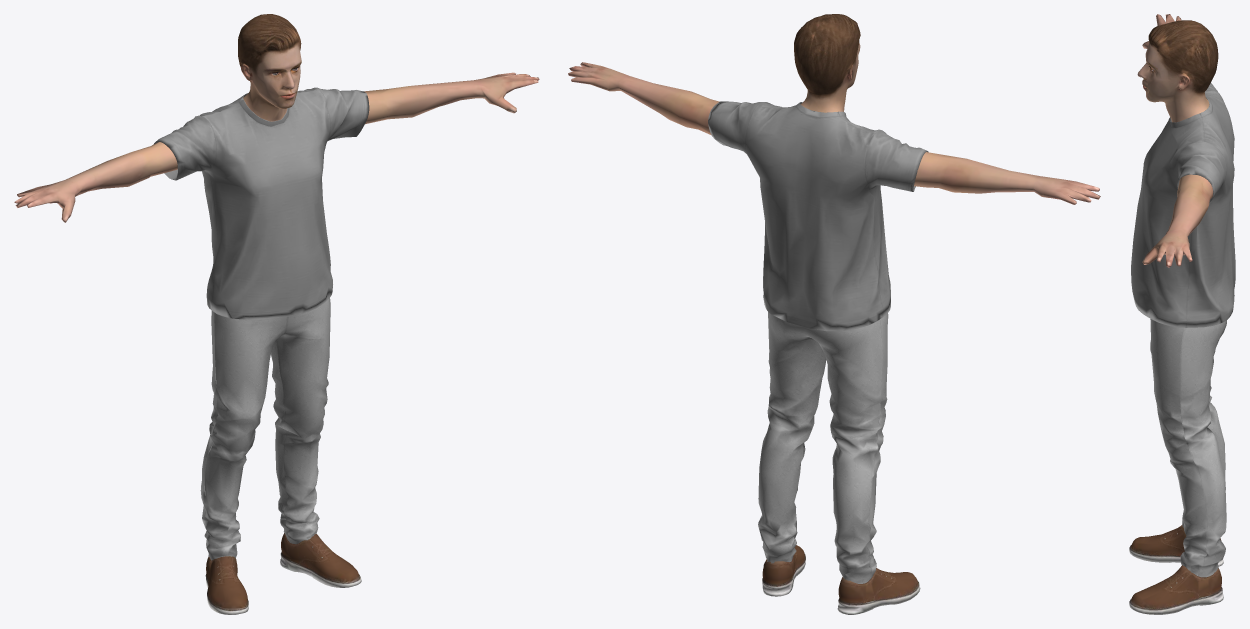
The model's file is oefenpop.glb.
3 renders of one model, left to right at view 1: azimuth 30°, elevation 25°; view 2: azimuth 150°, elevation 25°; view 3: azimuth 270°, elevation 25°, orthographic. The views are drawn at different scales.
Visible parts, largest first — view 1: outfit_top, outfit_bottom, AvatarBody, AvatarHead, outfit_shoes; view 2: outfit_top, outfit_bottom, AvatarBody, AvatarHead, outfit_shoes; view 3: outfit_top, outfit_bottom, AvatarHead, outfit_shoes, AvatarBody.
Boxes of the visible parts, box(x1,y1,x2,y2) form: outfit_top: box(154, 87, 369, 319); outfit_bottom: box(200, 298, 330, 560); AvatarBody: box(14, 72, 539, 222); AvatarHead: box(238, 14, 301, 121); outfit_shoes: box(205, 533, 361, 614); outfit_top: box(708, 101, 928, 331); outfit_bottom: box(758, 312, 888, 583); AvatarBody: box(568, 62, 1100, 204); AvatarHead: box(794, 14, 860, 112); outfit_shoes: box(762, 545, 920, 614); outfit_top: box(1131, 83, 1235, 327); outfit_bottom: box(1150, 319, 1226, 577); AvatarHead: box(1137, 20, 1218, 122); outfit_shoes: box(1129, 525, 1223, 614); AvatarBody: box(1142, 14, 1213, 267).
Size of the model in its own units: 1.89 by 1.96 by 0.3386.
Materials: 8 (7 with a texture image).
